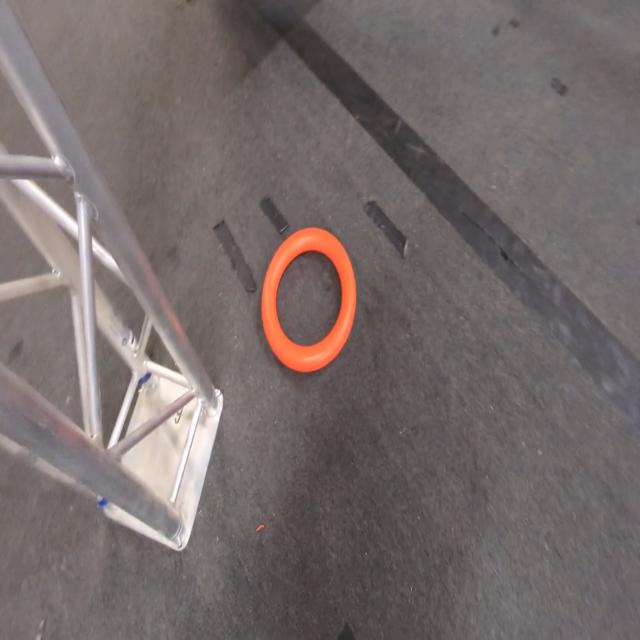note: (264, 228, 360, 370)
